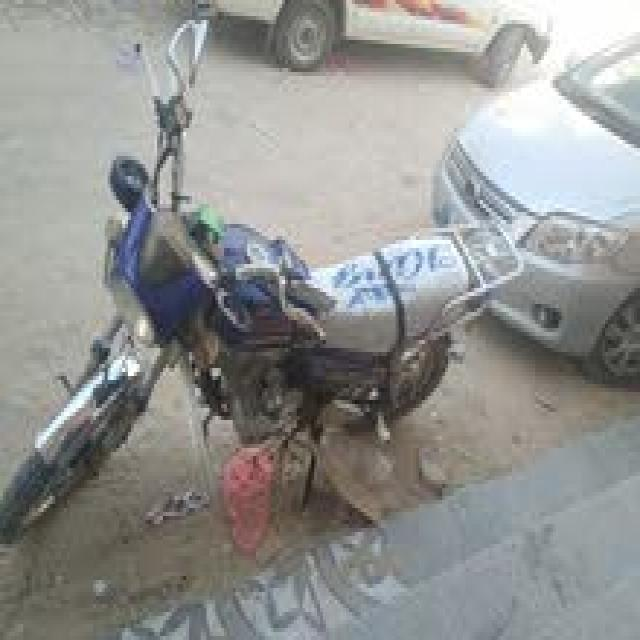motorcycle: (48, 144, 486, 512)
